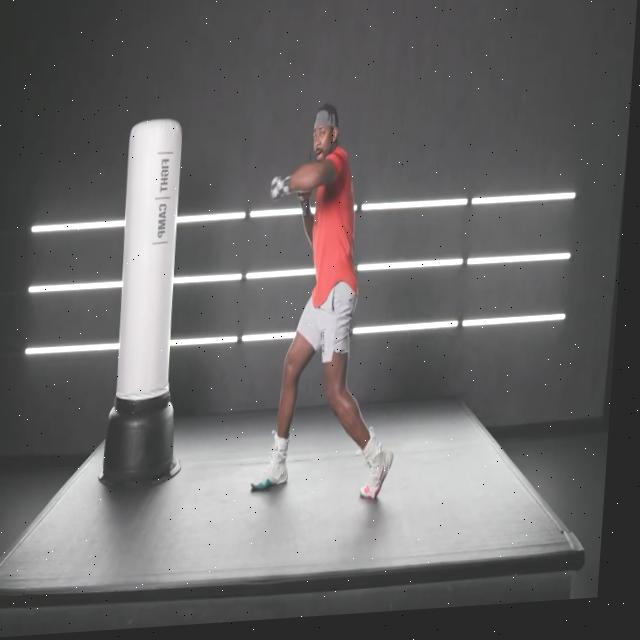Hook: (263, 143, 365, 314)
